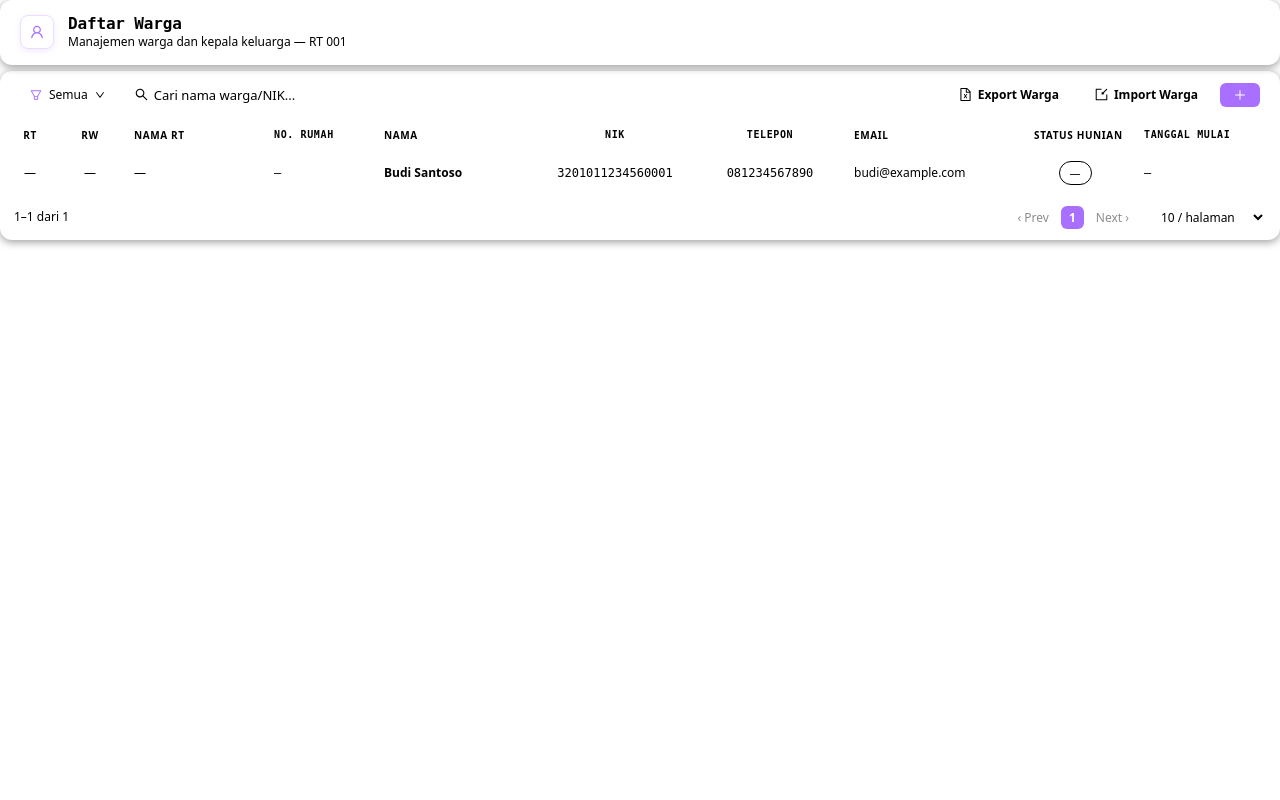
Test case: W4.2C — Authorization write action visibility › shows Import Warga button for authorized position ketua and opens modal on click
expect the text "Budi Santoso" is shown: met, box [370,151,530,195]
Note: Click Import Warga
Click the button "Import Warga" at (1146, 95), box [1081,80,1212,109]
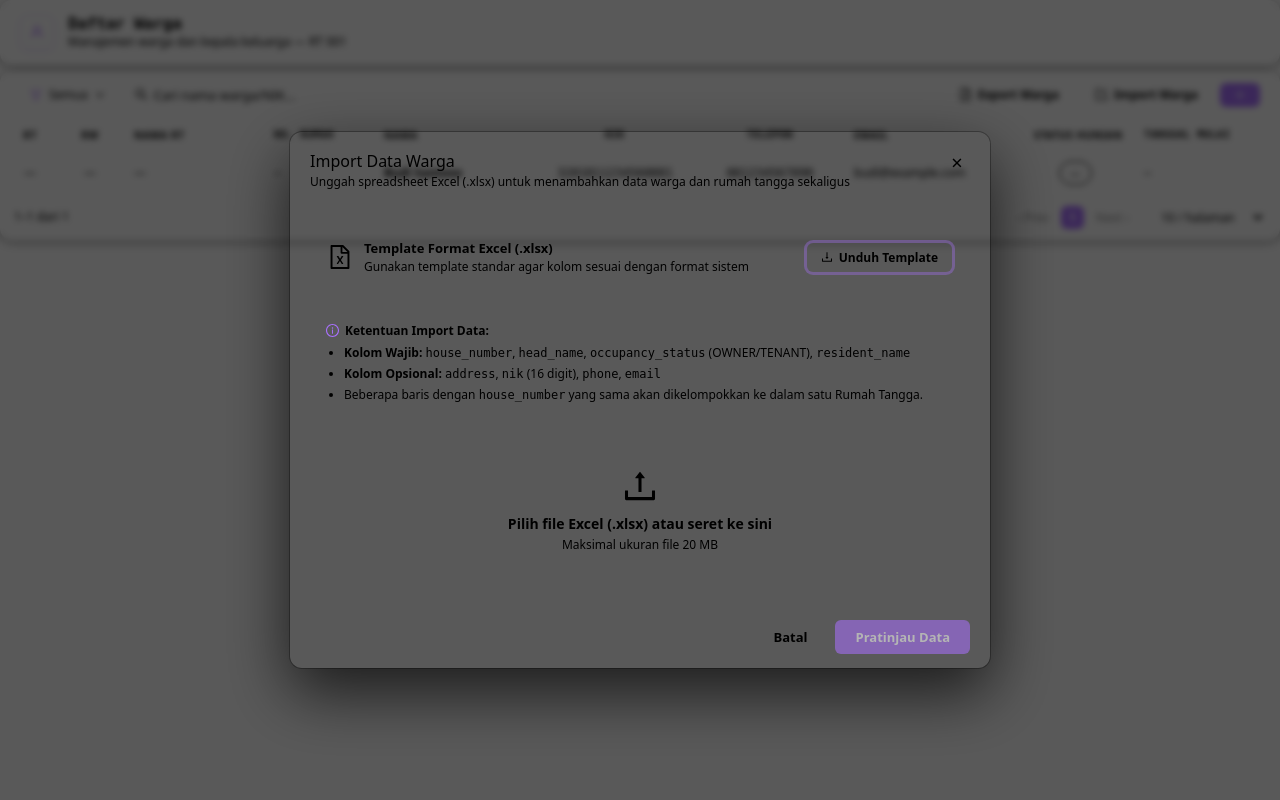
expect the text "Import Data Warga" is shown: met, box [310,150,455,172]
expect the text "Unggah spreadsheet Excel" is shown: met, box [310,173,850,190]
